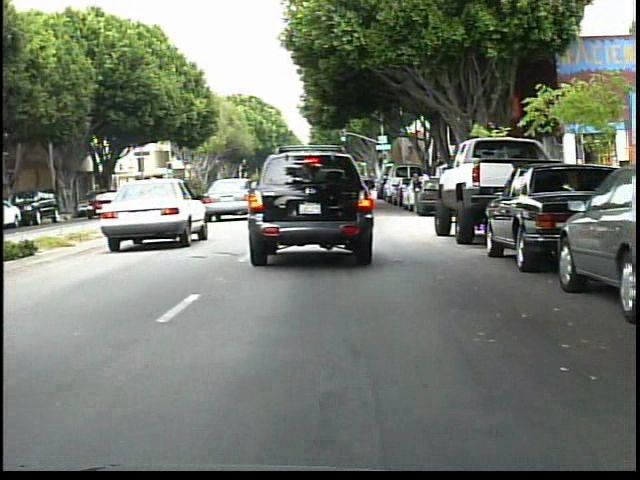person: (409, 170, 423, 218), (417, 167, 432, 207)
